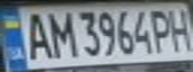3: (75, 7, 100, 57)
4: (130, 7, 154, 55)
6: (115, 8, 136, 55)
9: (97, 8, 118, 56)
A: (18, 9, 54, 61)
H: (166, 4, 193, 52)
M: (42, 8, 75, 59)
P: (148, 6, 175, 54)
